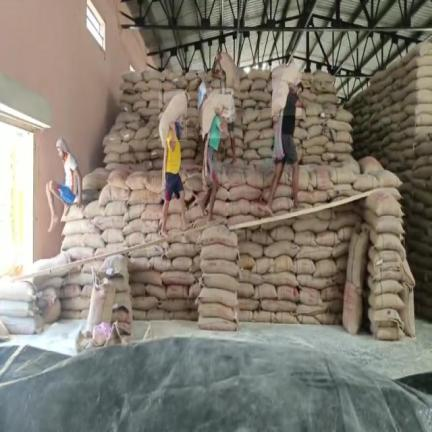Zone-Counting: (267, 65, 302, 213), (159, 91, 188, 235), (200, 92, 233, 218)
